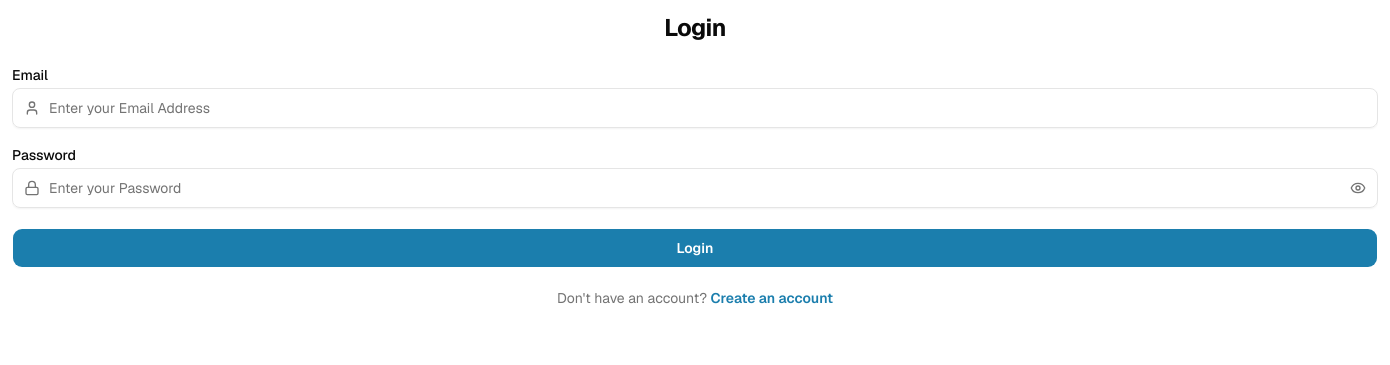
Test: LoginForm › should show validation errors when submitting empty form
This screenshot has width=1390, height=365.
Click the button "Login" at (695, 248), box [12,228,1378,268]
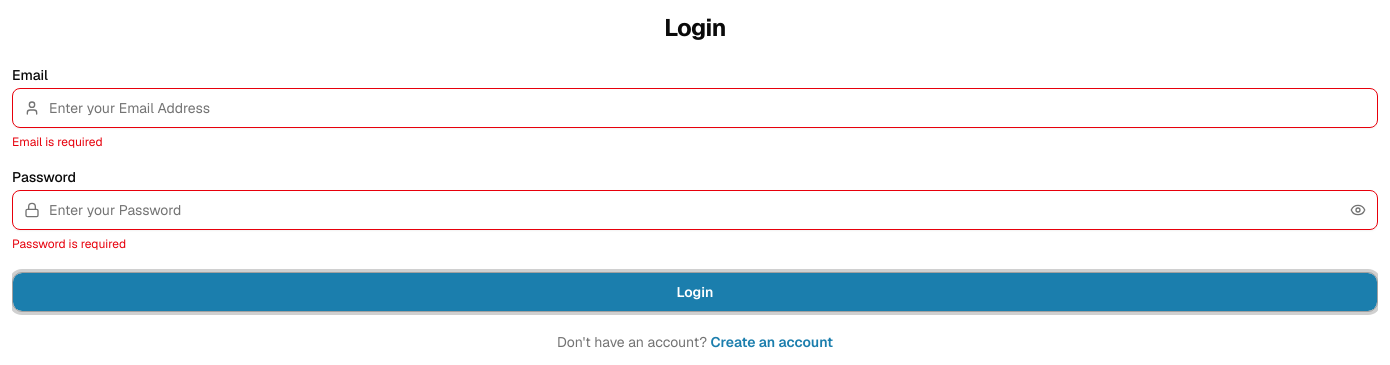
Expected: the text "Email is required" is shown, [12,134,103,150]
Expected: the text "Password is required" is shown, [12,236,126,252]
